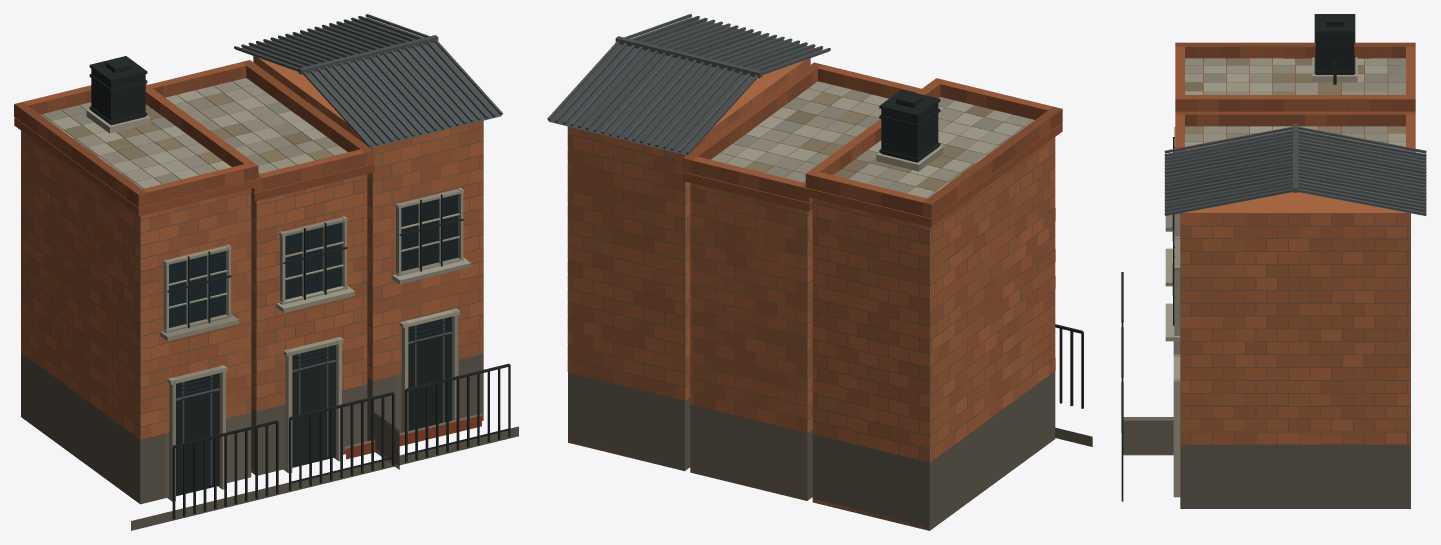
The model's file is SM_StreetFrontage_106.fbx.
3 views of the same model, side by side, from view 1: azimuth 30°, elevation 25°; view 2: azimuth 150°, elevation 25°; view 3: azimuth 270°, elevation 25° (orthographic). The views are drawn at different scales.
Parts seen in each view (by area): view 1: SM_StreetFrontage_106; view 2: SM_StreetFrontage_106; view 3: SM_StreetFrontage_106.
Part boxes in pixels (x1,y1,x2,y2): SM_StreetFrontage_106: (14, 14, 518, 530); SM_StreetFrontage_106: (547, 14, 1092, 530); SM_StreetFrontage_106: (1121, 14, 1426, 508).
Size of the model in its own units: 7.85 by 5.52 by 7.34.
